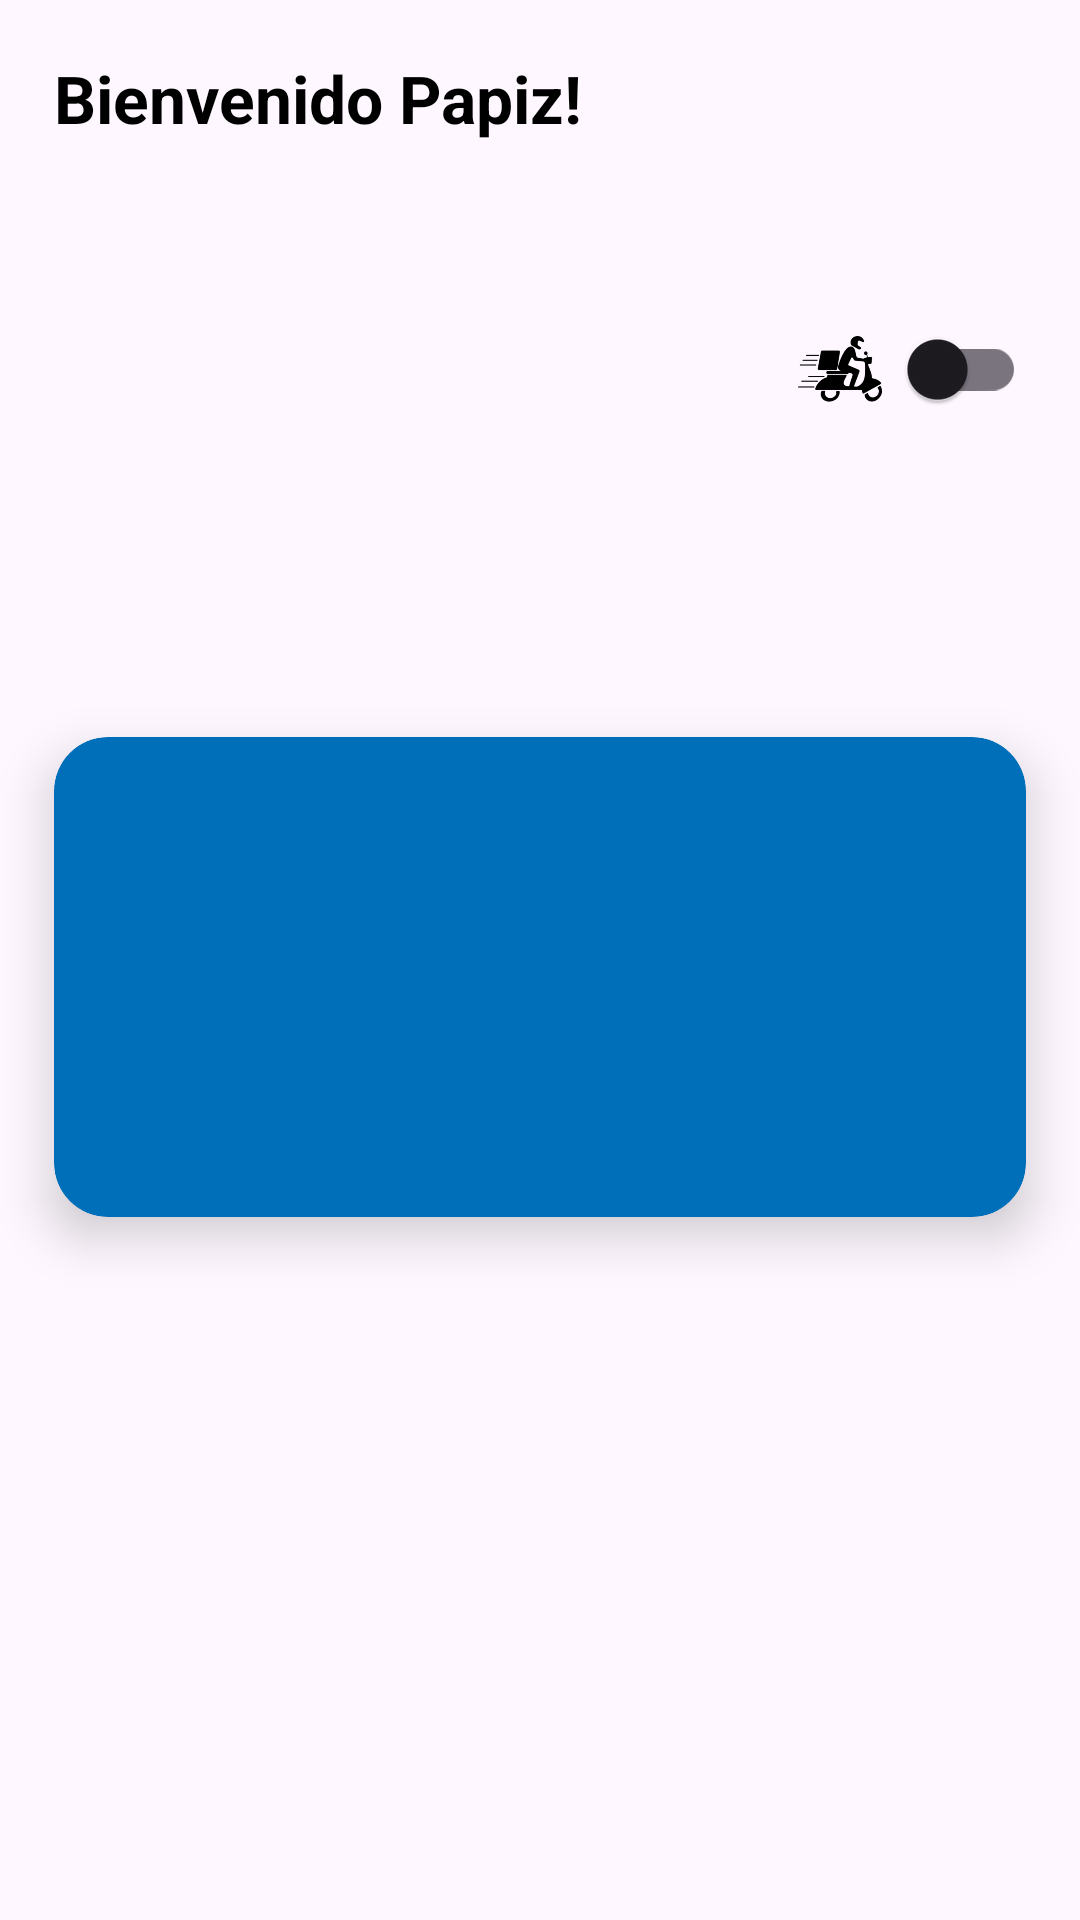

Icons on this 1080×1920 Android screen, each with the point to tap as (x,y):
delivery: (840,369)
